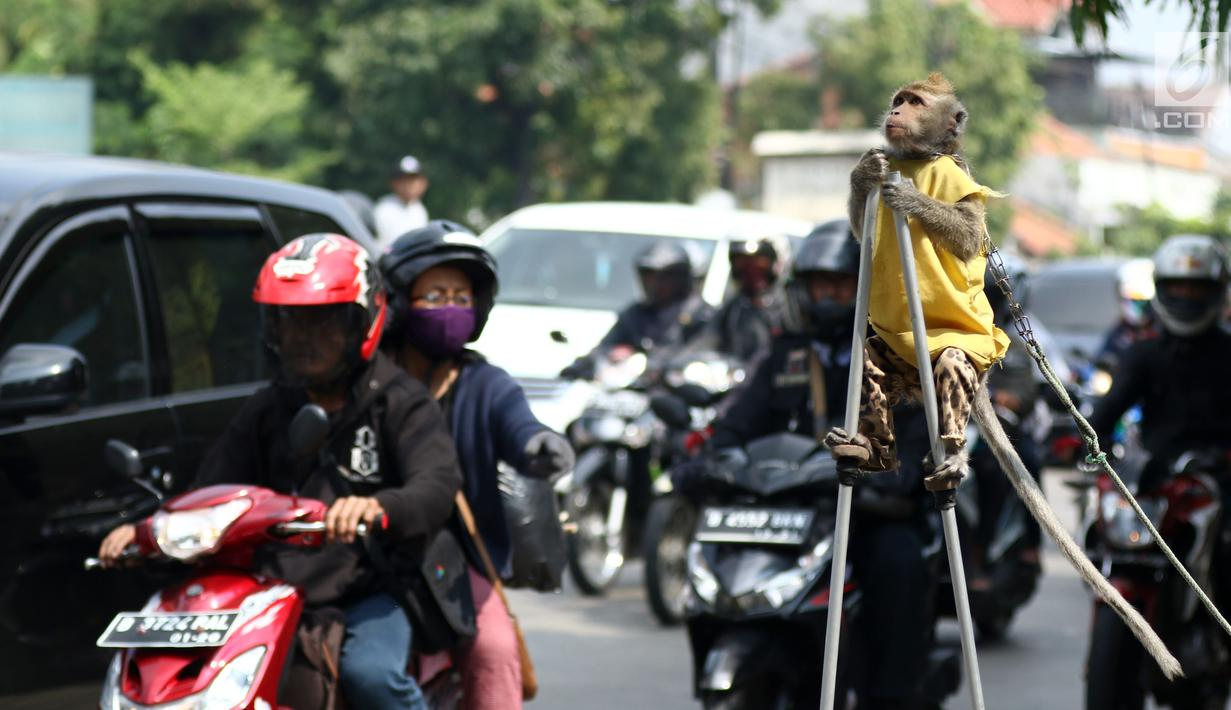plate: (100, 605, 233, 651), (703, 511, 806, 539)
